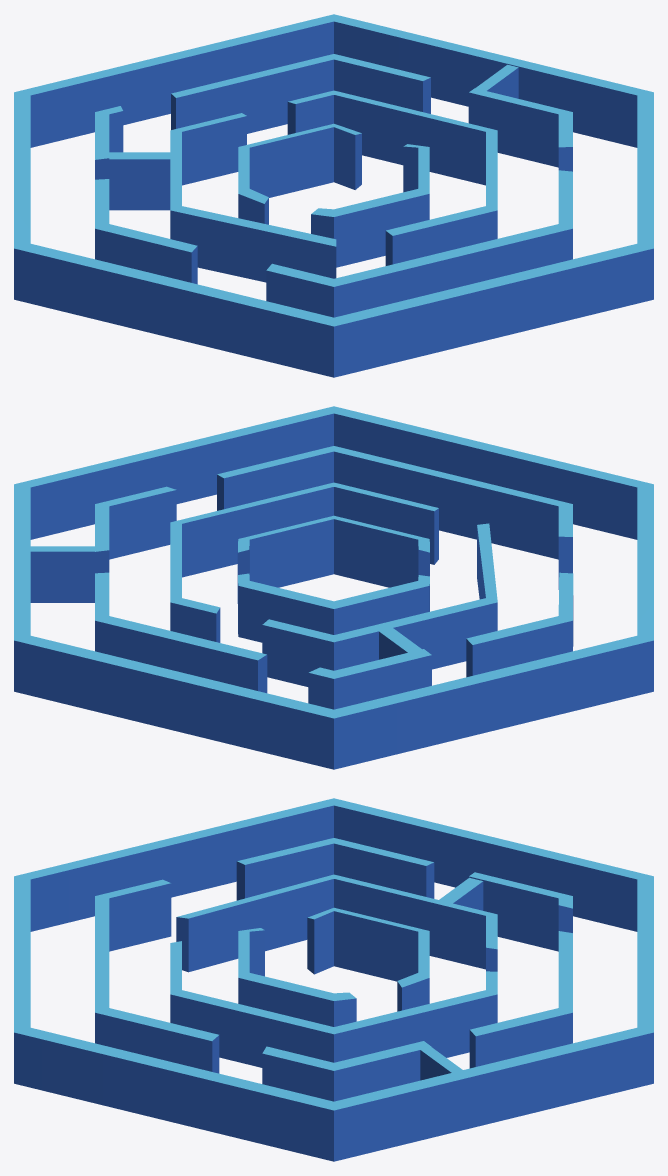
The model's file is tuong.fbx.
3 views of the same model, one above another, from view 1: azimuth 30°, elevation 25°; view 2: azimuth 150°, elevation 25°; view 3: azimuth 270°, elevation 25° (orthographic).
Visible parts, largest first — view 1: polySurface1, polySurface7, polySurface5, polySurface8, polySurface2, polySurface9, polySurface10, polySurface6, polySurface4, polySurface12, polySurface3, polySurface11; view 2: polySurface1, polySurface5, polySurface7, polySurface8, polySurface10, polySurface2, polySurface9, polySurface6, polySurface4, polySurface3, polySurface11, polySurface12; view 3: polySurface1, polySurface8, polySurface7, polySurface5, polySurface9, polySurface4, polySurface6, polySurface2, polySurface10, polySurface3, polySurface12, polySurface11.
Part boxes in pixels (x1,y1,x2,y2): polySurface1: [14, 14, 653, 377]; polySurface7: [287, 90, 497, 265]; polySurface5: [266, 170, 572, 317]; polySurface8: [170, 113, 336, 282]; polySurface2: [171, 54, 430, 133]; polySurface9: [238, 123, 361, 224]; polySurface10: [311, 144, 429, 267]; polySurface6: [468, 88, 572, 171]; polySurface4: [95, 179, 197, 284]; polySurface12: [109, 152, 170, 210]; polySurface3: [95, 106, 123, 179]; polySurface11: [475, 64, 518, 98]; polySurface1: [14, 406, 653, 769]; polySurface5: [217, 446, 572, 589]; polySurface7: [170, 482, 438, 642]; polySurface8: [262, 523, 497, 686]; polySurface10: [237, 515, 429, 603]; polySurface2: [95, 572, 267, 693]; polySurface9: [238, 573, 429, 642]; polySurface6: [95, 486, 176, 573]; polySurface4: [466, 572, 573, 677]; polySurface3: [308, 649, 431, 709]; polySurface11: [30, 546, 94, 602]; polySurface12: [379, 628, 421, 659]; polySurface1: [14, 798, 653, 1161]; polySurface8: [176, 874, 497, 972]; polySurface7: [170, 941, 497, 1067]; polySurface5: [95, 879, 219, 1073]; polySurface9: [307, 907, 429, 1011]; polySurface4: [236, 838, 434, 900]; polySurface6: [262, 1041, 431, 1101]; polySurface2: [469, 931, 572, 1068]; polySurface10: [238, 928, 356, 1026]; polySurface3: [468, 872, 572, 951]; polySurface12: [439, 877, 483, 910]; polySurface11: [420, 1047, 462, 1080].
Size of the model in its own units: 2045 by 180 by 1771.
